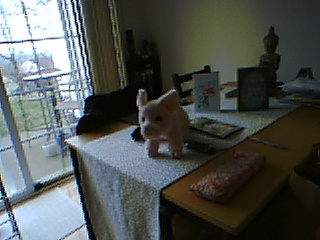piggy: (135, 87, 190, 159)
